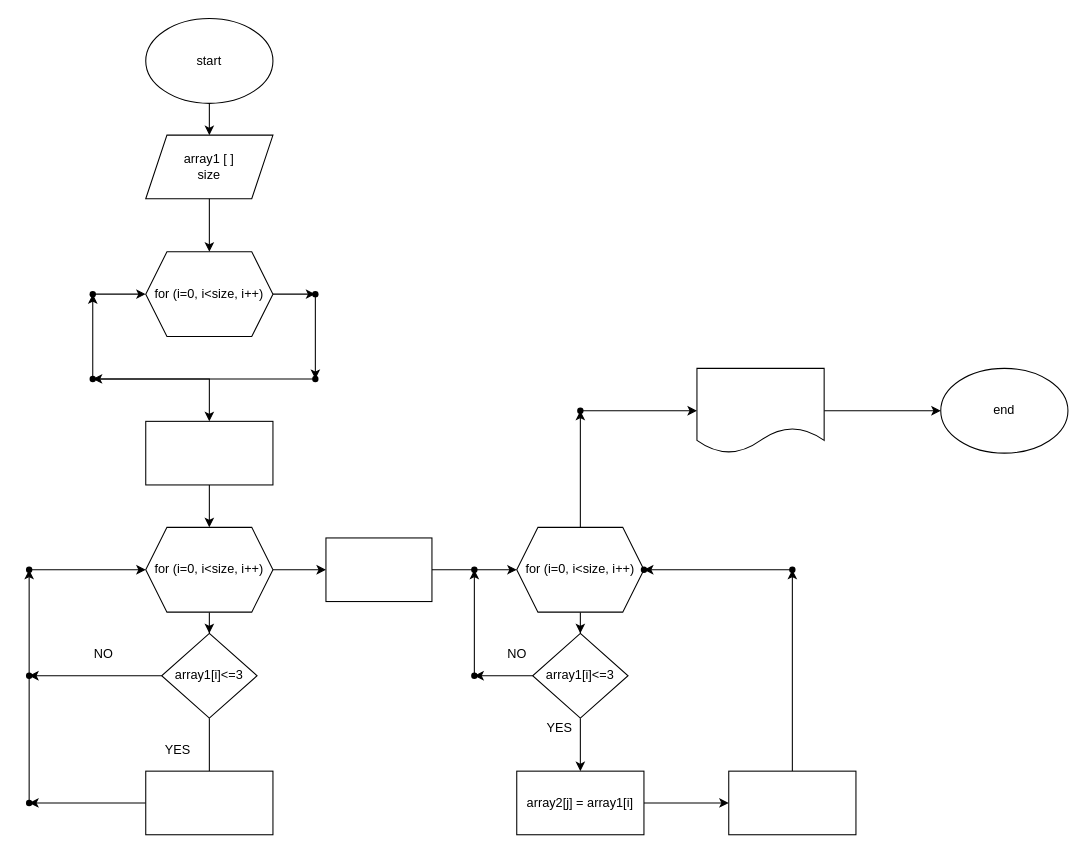
The diagram is 1087 pixels wide and 853 high, and some of its shapes have lost their labels. Here are the shapes that lost their labels. From the top down, the centre of each, then its label:
At point 760,410: "Print (array1,array2)".
At point 209,452: "count = 0 maxSymbols = 3".
At point 378,569: "j=0".
At point 209,802: "count ++".
At point 792,802: "j++".
